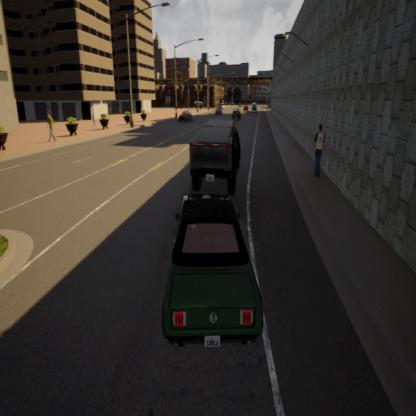Cars: (160, 176, 278, 368), (175, 105, 245, 194), (170, 102, 201, 133), (230, 96, 244, 127), (211, 94, 224, 119), (242, 98, 250, 117), (252, 98, 260, 117)
Pedestrian: (304, 102, 329, 193)
